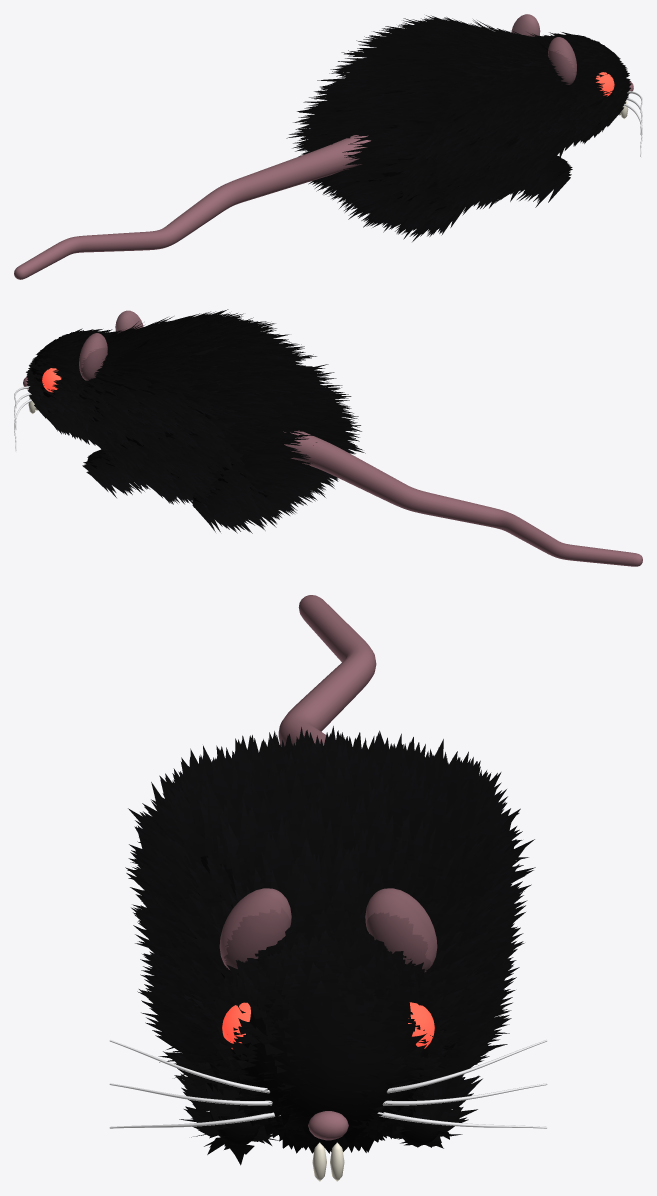
File: deathrat.glb
The picture shows the model from 3 angles, top to bottom: view 1: azimuth 30°, elevation 25°; view 2: azimuth 150°, elevation 25°; view 3: azimuth 270°, elevation 25°; orthographic projection. The views are drawn at different scales.
Visible parts, largest first — view 1: FurStrands, Tail, Body, EarR, Head, EarL; view 2: FurStrands, Tail, Body, EarL, Head, EarR; view 3: FurStrands, Head, Tail, EarL, EarR, Body, Nose.
Boxes of the visible parts, box(x1,y1,x2,y2) form: FurStrands: box(286, 15, 631, 241); Tail: box(14, 135, 370, 279); Body: box(322, 34, 582, 210); EarR: box(548, 37, 576, 84); Head: box(571, 39, 626, 124); EarL: box(511, 14, 540, 36); FurStrands: box(26, 309, 365, 533); Tail: box(283, 430, 642, 566); Body: box(74, 326, 328, 502); EarL: box(79, 333, 107, 380); Head: box(31, 333, 84, 412); EarR: box(115, 310, 143, 333); FurStrands: box(125, 726, 535, 1165); Head: box(230, 964, 428, 1131); Tail: box(278, 595, 376, 746); EarL: box(365, 888, 437, 972); EarR: box(219, 888, 291, 969); Body: box(190, 833, 474, 1145); Nose: box(308, 1111, 348, 1140).
Bounding box in the file's own units: 0.7001 × 0.1931 × 0.2164.
